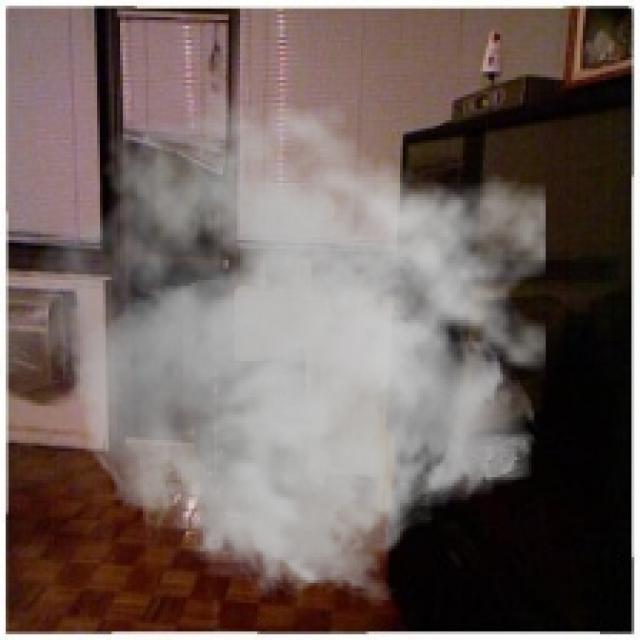Smoke: (28, 86, 546, 608)
